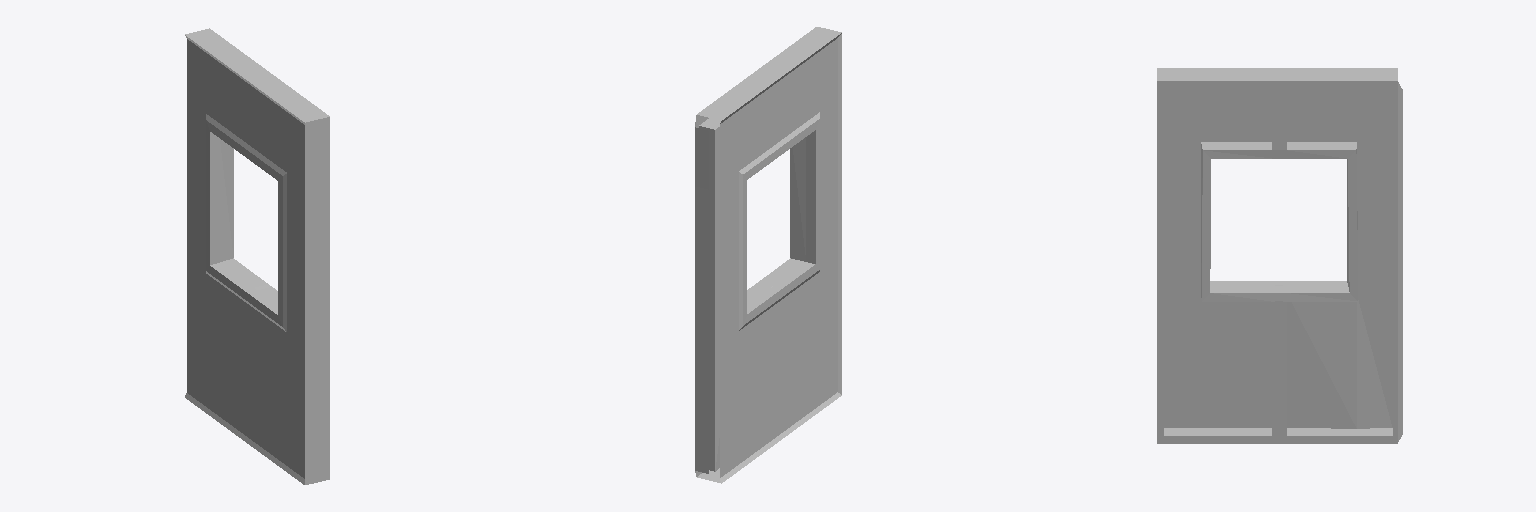
Rendered from window.obj.
3 views of the same model, side by side, from view 1: azimuth 30°, elevation 25°; view 2: azimuth 150°, elevation 25°; view 3: azimuth 270°, elevation 25° (orthographic).
Visible parts, largest first — view 1: WindowWall; view 2: WindowWall; view 3: WindowWall.
Part boxes in pixels (x1,y1,x2,y2): WindowWall: (185, 28, 329, 484); WindowWall: (695, 27, 841, 483); WindowWall: (1157, 68, 1402, 443).
Size of the model in its own units: 0.2242 by 3.06 by 1.88.